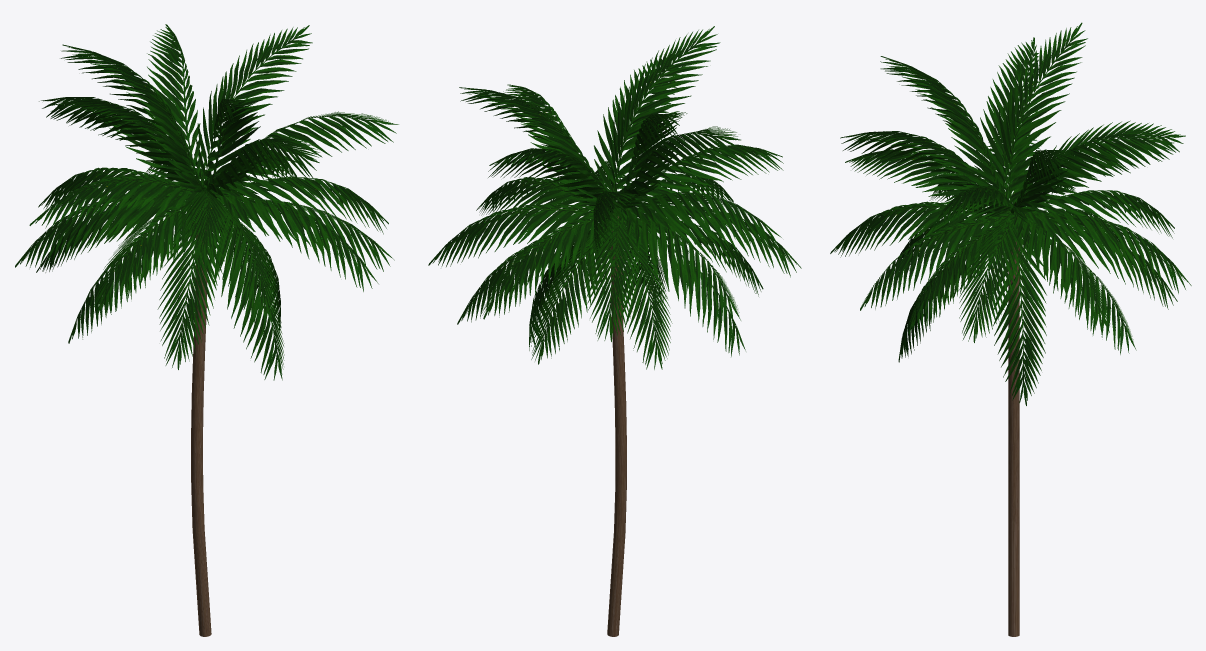
The model's file is SM_tree_05.glb.
3 renders of one model, left to right at view 1: azimuth 30°, elevation 25°; view 2: azimuth 150°, elevation 25°; view 3: azimuth 270°, elevation 25°, orthographic. The views are drawn at different scales.
Parts seen in each view (by area): view 1: SM_tree_05; view 2: SM_tree_05; view 3: SM_tree_05.
Boxes of the visible parts, bbox=[...] form: SM_tree_05: bbox=[15, 24, 398, 636]; SM_tree_05: bbox=[428, 26, 801, 636]; SM_tree_05: bbox=[830, 22, 1191, 636].
Size of the model in its own units: 14.17 by 23.02 by 13.43.
2 materials, 2 textured.
